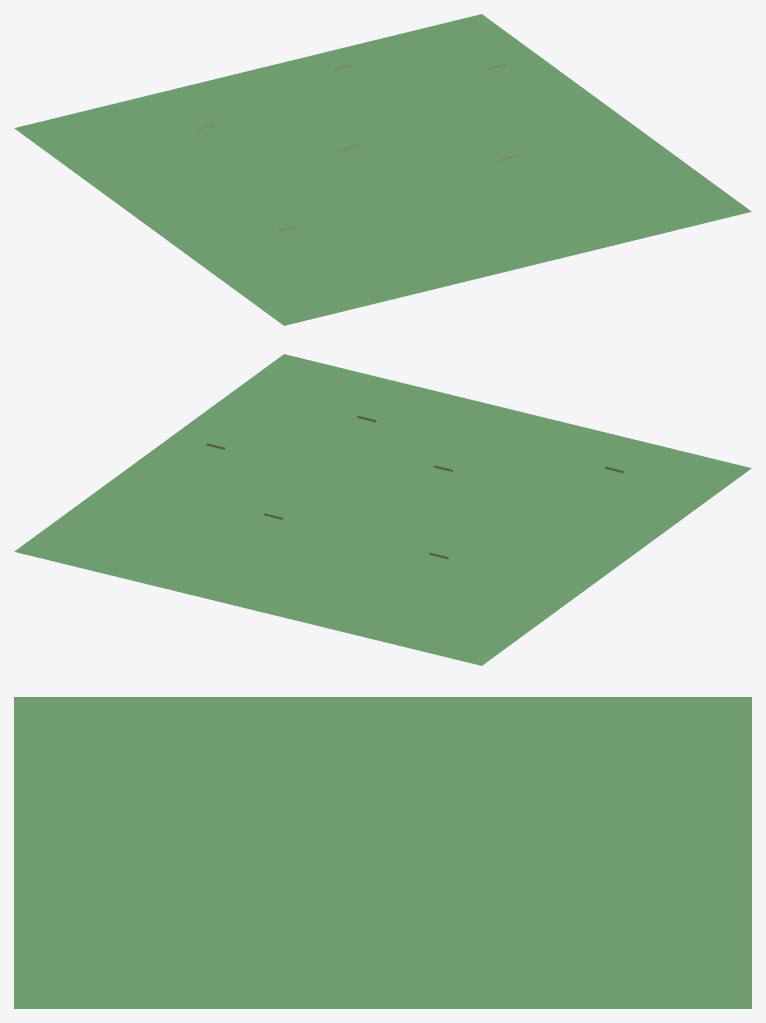
Rendered from GROUND_COASTAL_GRASS_001_LOD_CLOSE.glb.
3 renders of one model, top to bottom at view 1: azimuth 30°, elevation 25°; view 2: azimuth 150°, elevation 25°; view 3: azimuth 270°, elevation 25°, orthographic. The views are drawn at different scales.
Visible parts, largest first — view 1: COASTAL_GROUND_PATCH_LOD0_EXPORT; view 2: COASTAL_GROUND_PATCH_LOD0_EXPORT; view 3: COASTAL_GROUND_PATCH_LOD0_EXPORT.
Part boxes in pixels (x1,y1,x2,y2): COASTAL_GROUND_PATCH_LOD0_EXPORT: (14, 14, 751, 325); COASTAL_GROUND_PATCH_LOD0_EXPORT: (14, 354, 751, 665); COASTAL_GROUND_PATCH_LOD0_EXPORT: (14, 697, 751, 1008).
Size of the model in its own units: 2 by 0.2048 by 2.
